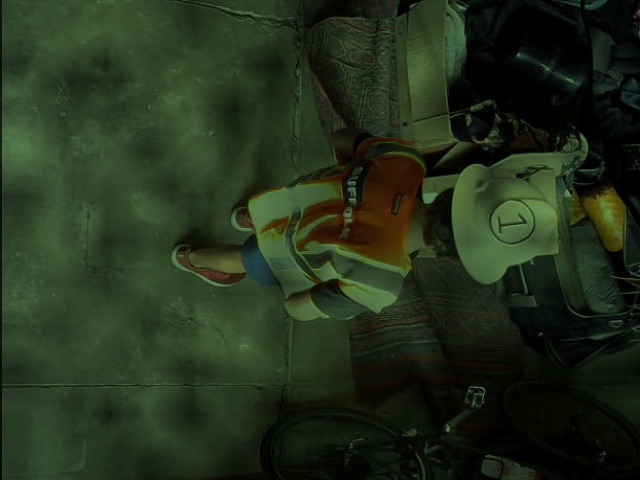one: (488, 198, 536, 244)
